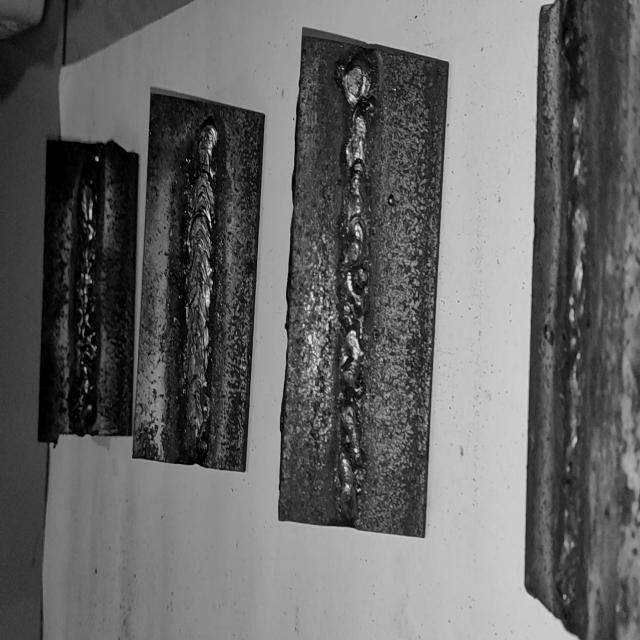Bad Weld: (337, 51, 372, 518), (71, 150, 101, 431)
Defect: (334, 60, 372, 512), (78, 160, 95, 422)
Good Weld: (184, 112, 222, 456)
